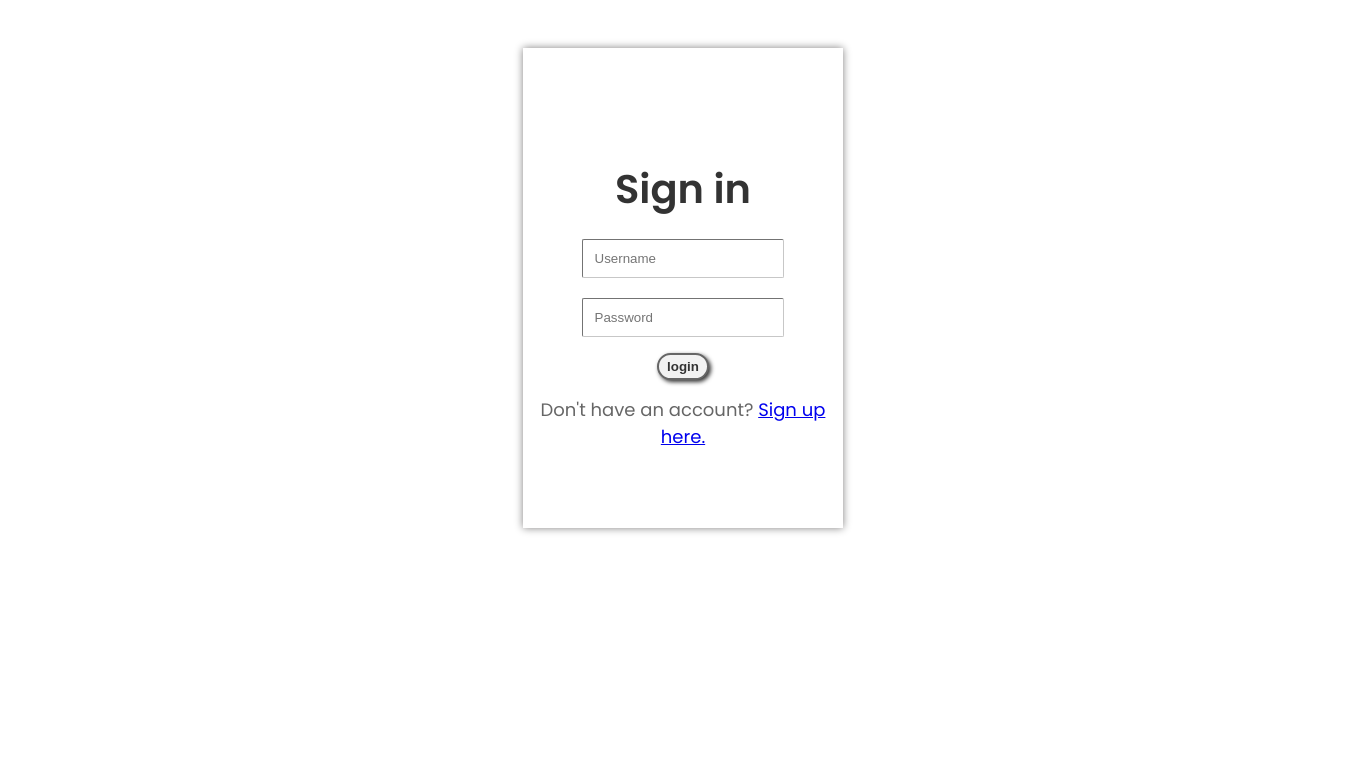
Test: <LoginForm /> › shows success notification on successful login
This screenshot has width=1366, height=768.
Type "testuser" into the field with placeholder "Username" at (683, 258), box [582, 239, 784, 278]
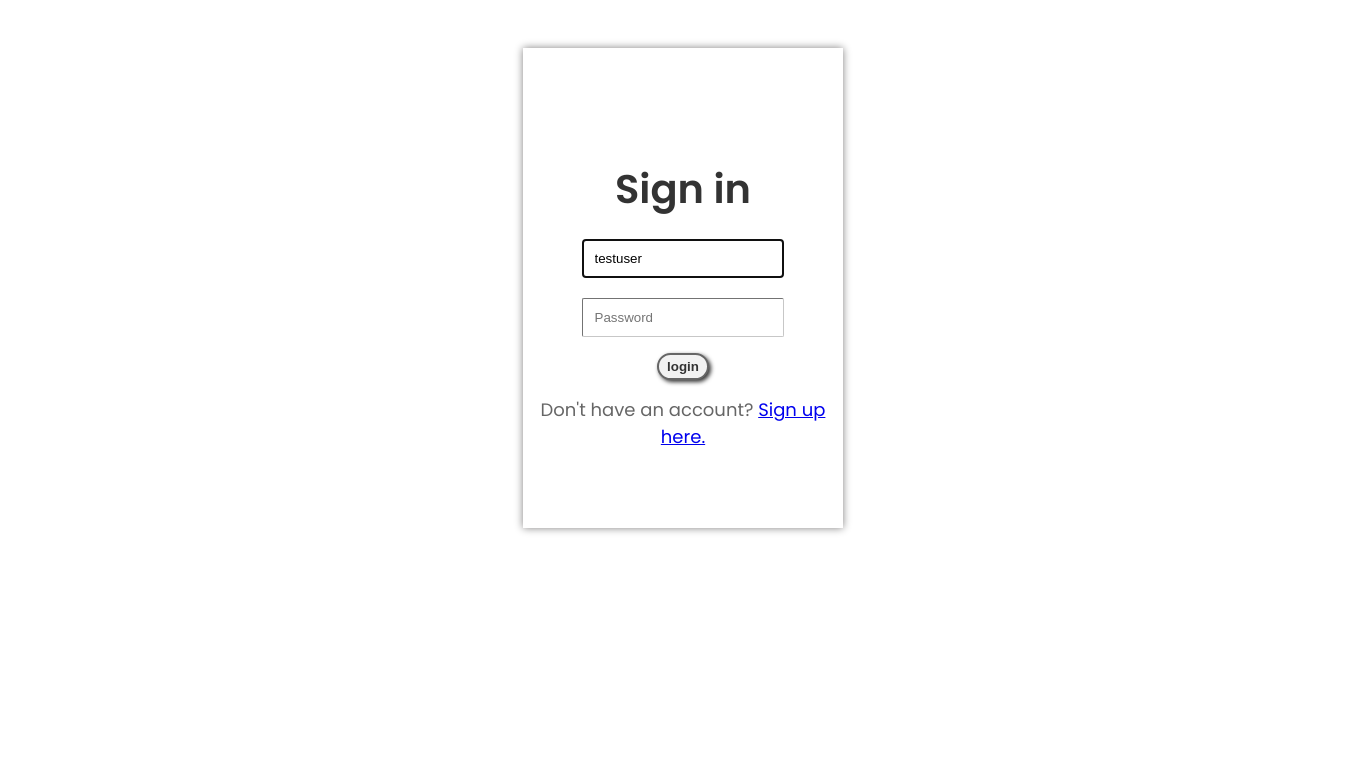
Type "password123" into the password field with placeholder "Password" at (683, 318), box [582, 298, 784, 338]
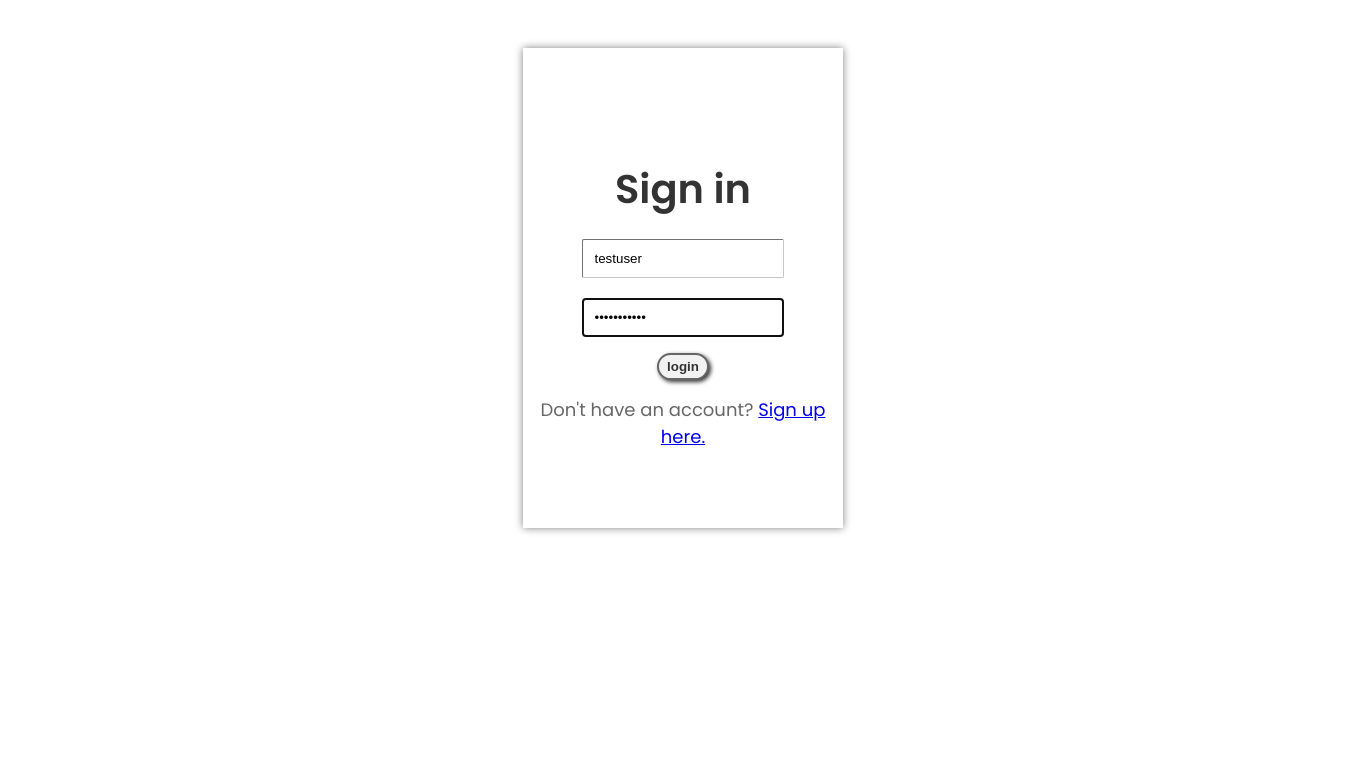
Click the button "login" at (683, 367), box [657, 354, 709, 380]
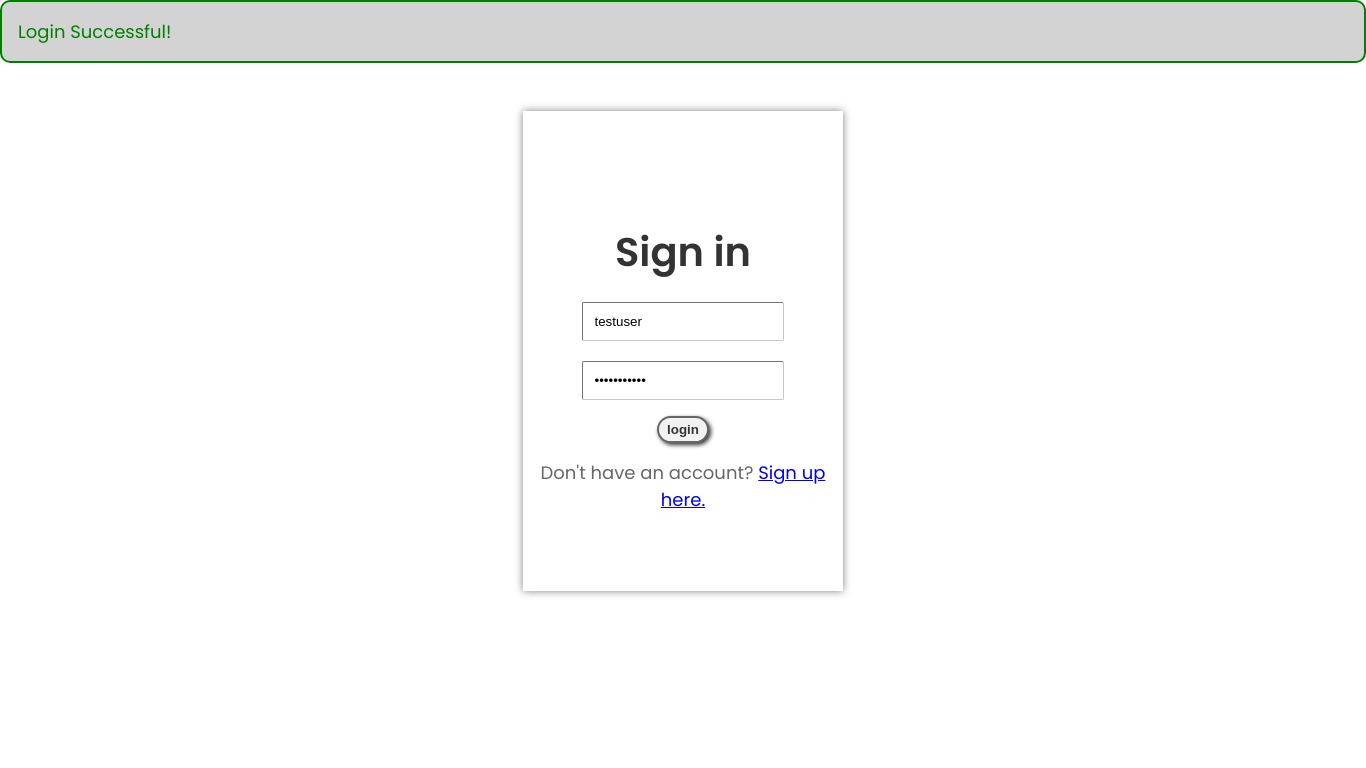
Result: the message shows "Login Successful" at [18, 19, 171, 44]
